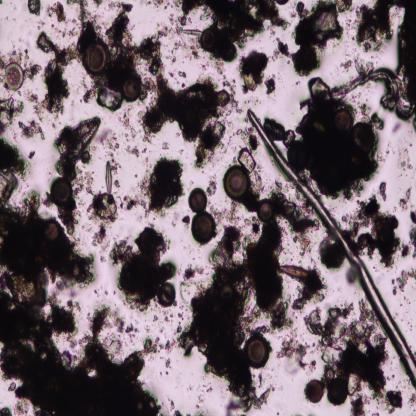Background material: (0, 288, 163, 415), (180, 228, 252, 396), (143, 76, 231, 164), (0, 207, 95, 288), (308, 306, 392, 388), (84, 5, 140, 105), (178, 0, 291, 46), (111, 226, 170, 312), (356, 0, 416, 81), (291, 1, 353, 76), (353, 195, 401, 267), (37, 32, 77, 116), (272, 192, 317, 250), (148, 156, 185, 216), (277, 334, 316, 370), (174, 265, 205, 309), (138, 27, 166, 75), (292, 271, 323, 310), (0, 137, 28, 178), (240, 50, 267, 92), (87, 303, 112, 344), (89, 193, 119, 222), (316, 242, 346, 269), (161, 14, 176, 64), (114, 114, 136, 146), (390, 270, 416, 297), (74, 170, 98, 199), (0, 172, 19, 208), (118, 194, 148, 216), (17, 120, 47, 141), (394, 146, 416, 174), (0, 94, 24, 119), (236, 126, 261, 150), (196, 54, 227, 73), (0, 40, 23, 61), (271, 36, 292, 58), (139, 336, 158, 360), (237, 147, 256, 171), (388, 388, 404, 415), (347, 262, 361, 291), (408, 210, 416, 260), (114, 316, 135, 335), (48, 2, 66, 24), (350, 394, 367, 415), (24, 57, 41, 78), (225, 395, 243, 414), (229, 96, 244, 118), (148, 0, 177, 10), (400, 188, 413, 210), (27, 0, 42, 17), (94, 228, 108, 246), (167, 400, 182, 415), (107, 141, 119, 158), (380, 179, 388, 202), (26, 146, 39, 160), (265, 78, 275, 96), (400, 244, 411, 259), (177, 65, 187, 81), (191, 46, 203, 58), (162, 356, 172, 370), (391, 121, 399, 137), (162, 343, 176, 352), (130, 146, 140, 158), (0, 407, 13, 415), (112, 178, 122, 188), (182, 214, 189, 225), (175, 329, 184, 334)
Cellulose filter fibre: (302, 58, 416, 116)
Diatom: (53, 116, 102, 163), (224, 164, 252, 202), (82, 39, 109, 75), (190, 212, 218, 244), (352, 120, 376, 157), (287, 140, 313, 172), (246, 335, 270, 369), (50, 178, 74, 206), (326, 377, 348, 406), (186, 186, 208, 214), (280, 263, 312, 282), (3, 63, 24, 90), (305, 376, 324, 404), (157, 281, 176, 309), (121, 77, 142, 102), (332, 107, 352, 133), (200, 27, 218, 52), (256, 198, 274, 222), (44, 219, 60, 241), (221, 41, 237, 61), (245, 392, 262, 410), (104, 160, 112, 194), (275, 240, 283, 259), (325, 368, 335, 380)
Easylift tab: (251, 222, 291, 328)
